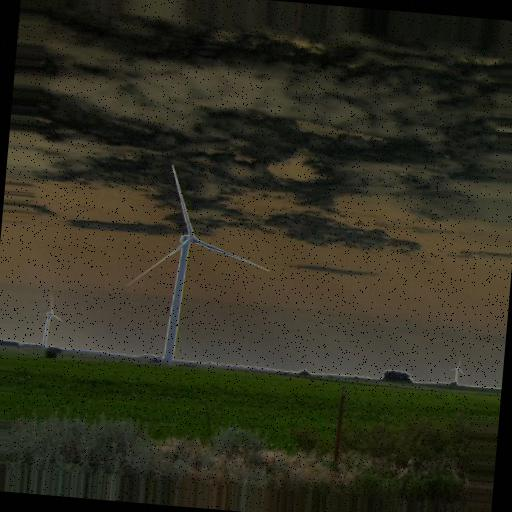wind turbine: (127, 164, 272, 365), (36, 293, 63, 347)
